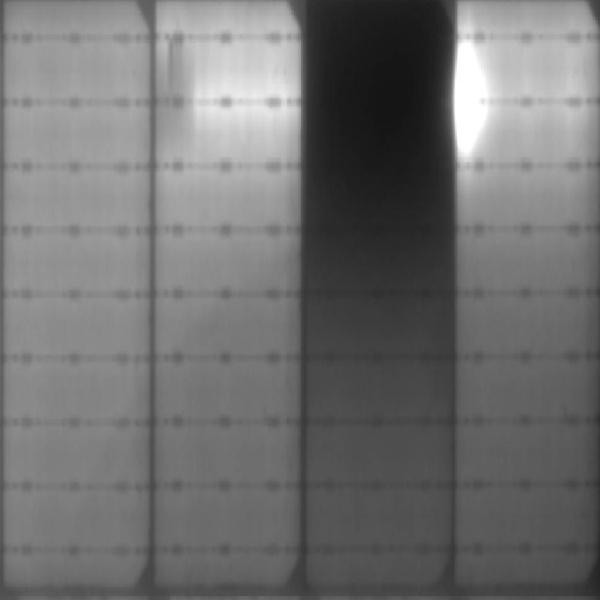hot_spot: (455, 46, 476, 148)
no_electricity: (307, 3, 448, 238)
